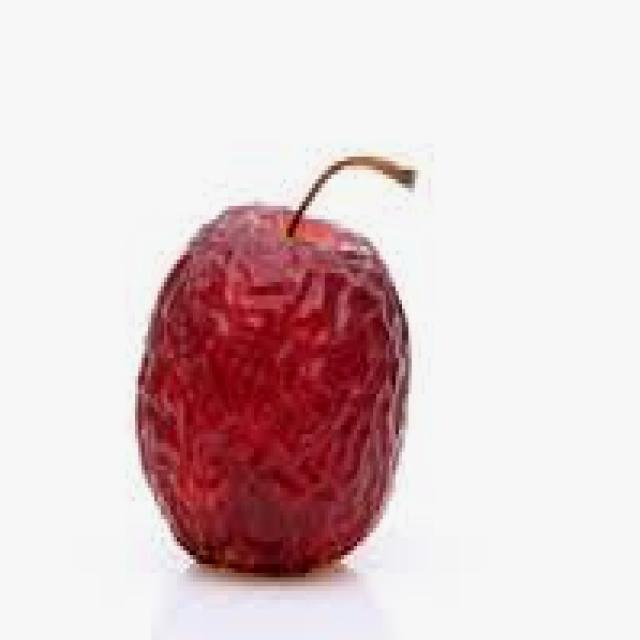wet: (146, 210, 408, 567)
